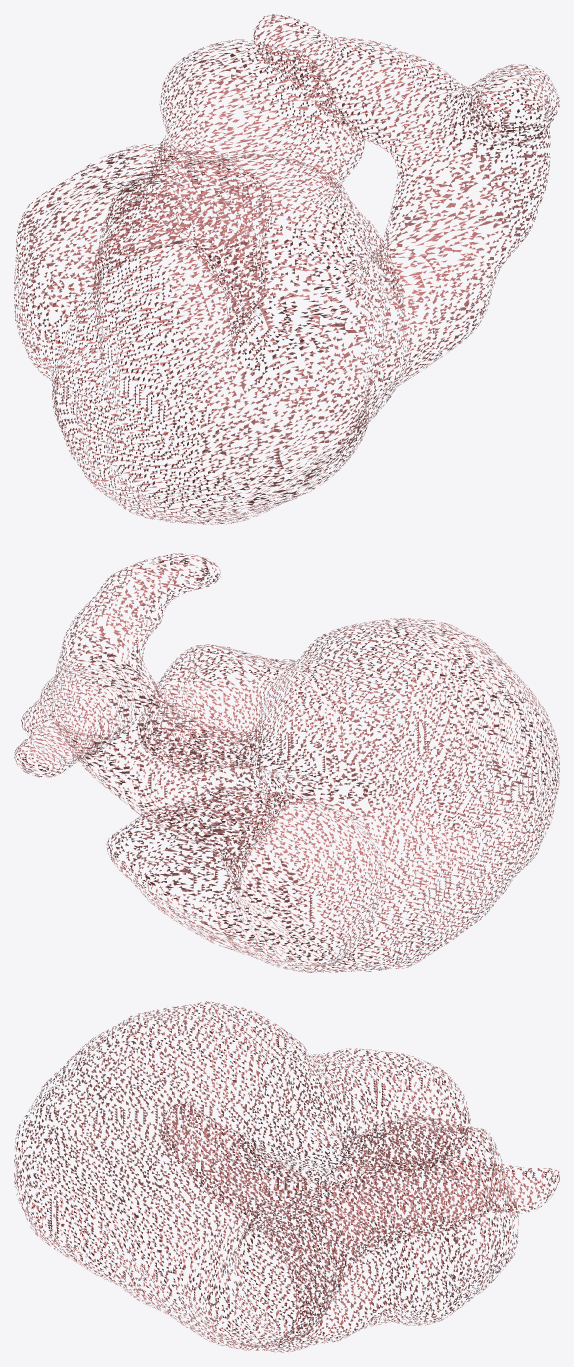
The model's file is heart.glb.
3 renders of one model, top to bottom at view 1: azimuth 30°, elevation 25°; view 2: azimuth 150°, elevation 25°; view 3: azimuth 270°, elevation 25°, orthographic. The views are drawn at different scales.
Size of the model in its own units: 120 by 89.02 by 133.
